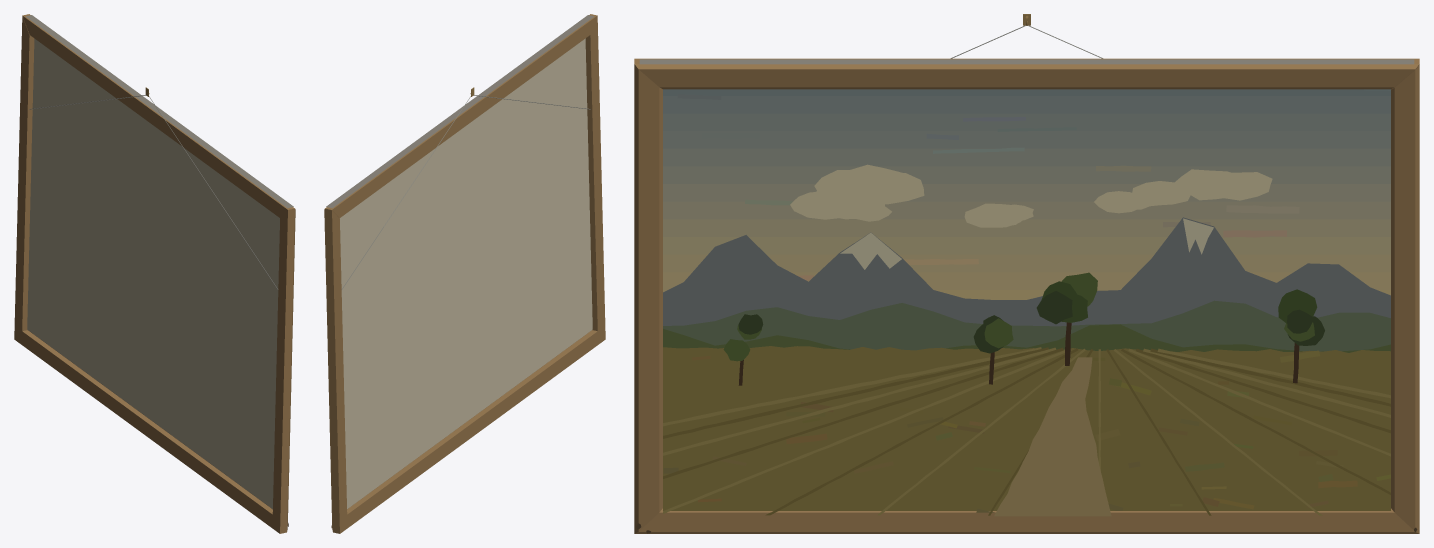
The model's file is painting_e.glb.
3 views of the same model, side by side, from view 1: azimuth 30°, elevation 25°; view 2: azimuth 150°, elevation 25°; view 3: azimuth 270°, elevation 25° (orthographic). The views are drawn at different scales.
Parts seen in each view (by area): view 1: bild, aufhaengung; view 2: bild, aufhaengung; view 3: bild.
Part boxes in pixels (<box>): bild: <box>14,14,295,533</box>; aufhaengung: <box>29,87,278,289</box>; bild: <box>324,14,605,533</box>; aufhaengung: <box>341,87,590,289</box>; bild: <box>634,58,1419,533</box>.
Size of the model in its own units: 0.0783 by 1.09 by 1.51.
